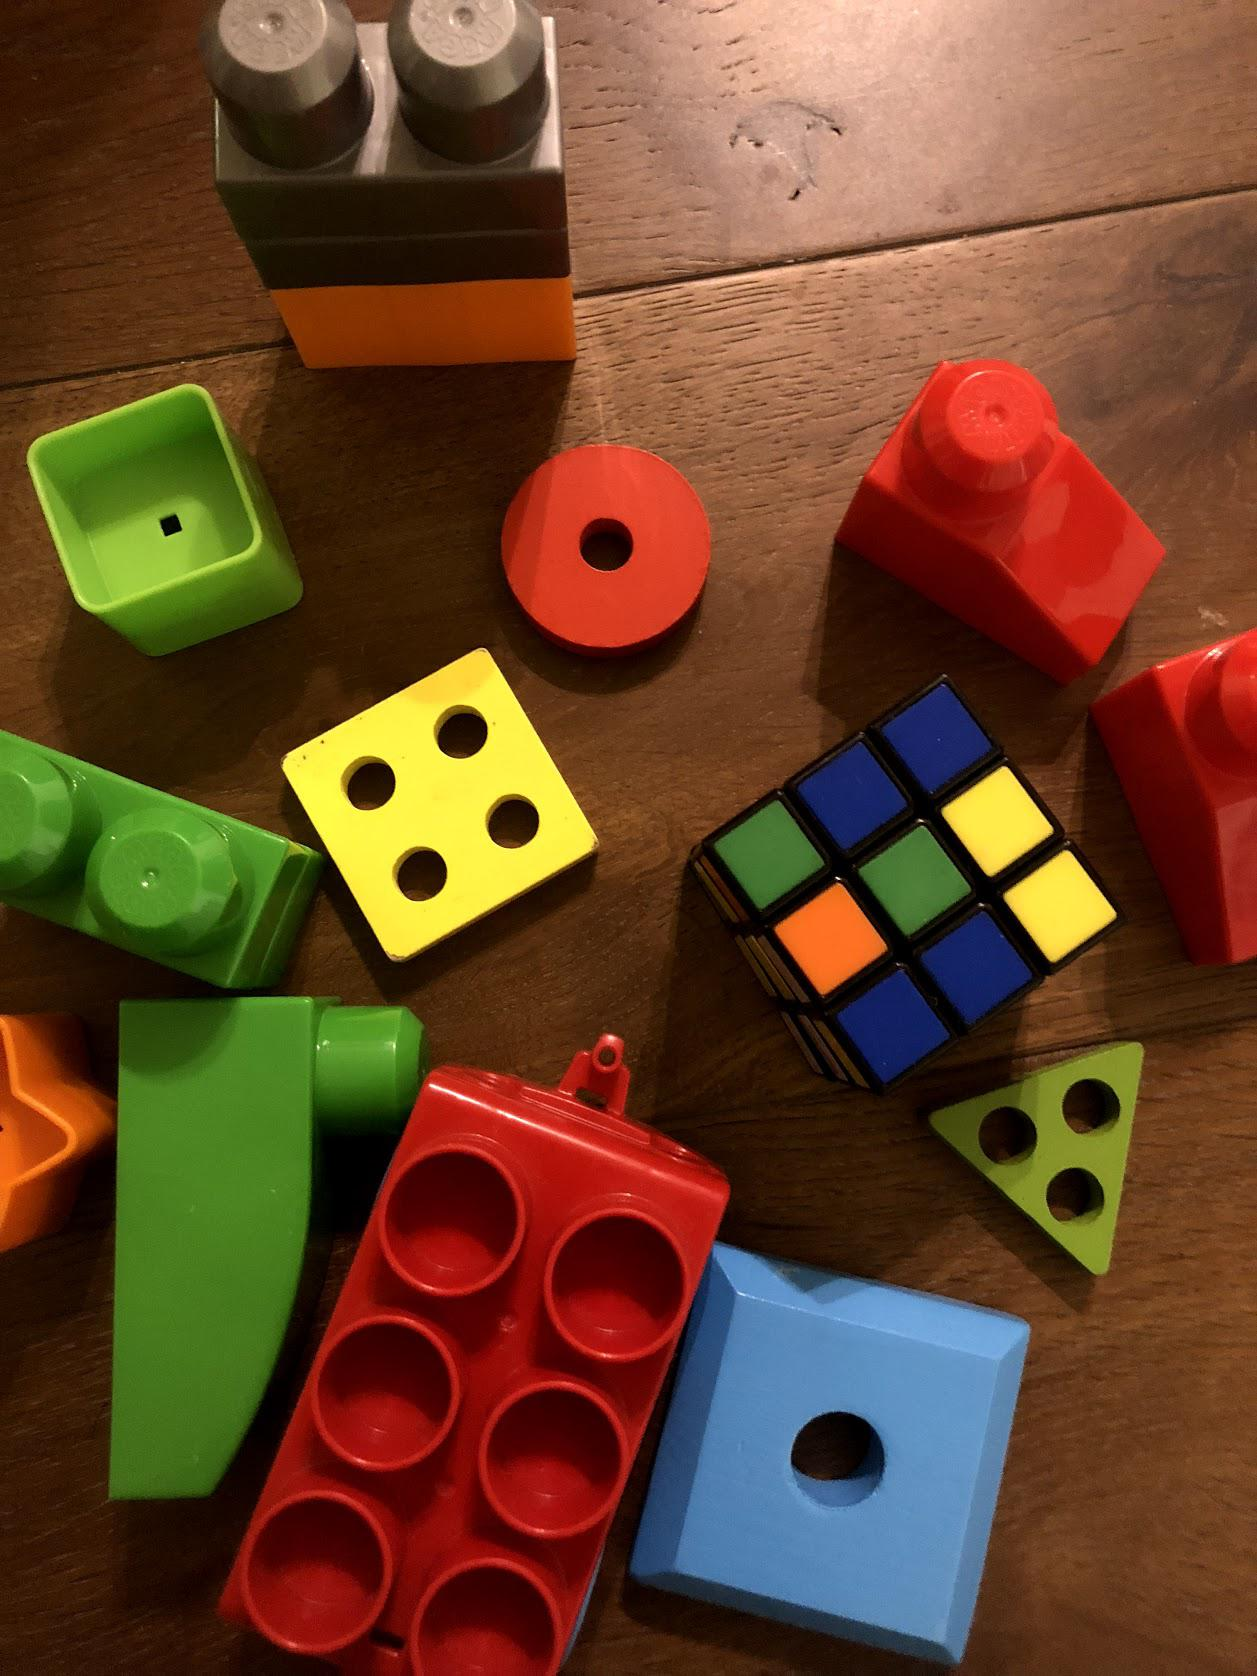Circle: (499, 439, 717, 643)
Square: (277, 647, 599, 959)
Triangle: (930, 1036, 1153, 1289)
